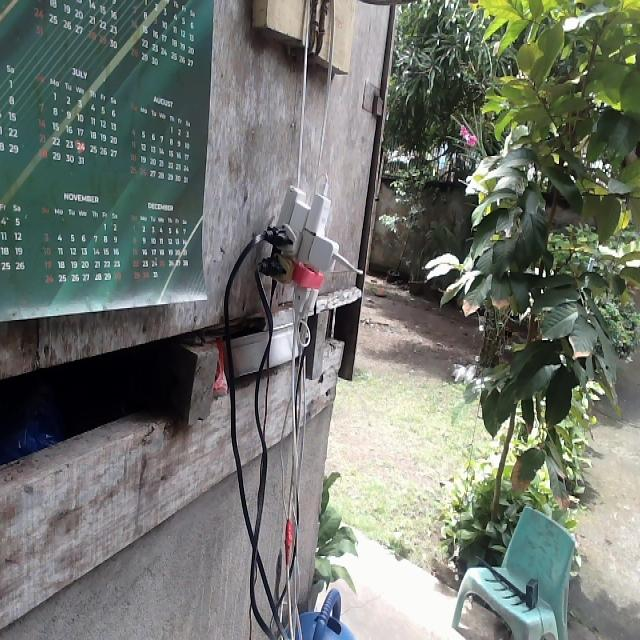-: (256, 177, 344, 316)
